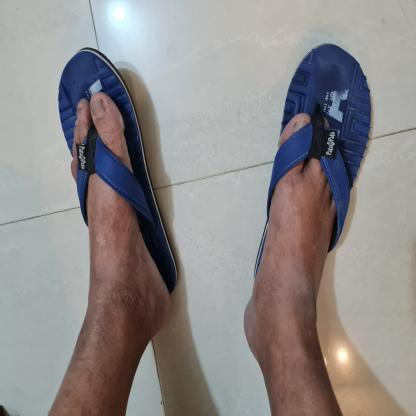leg: (33, 83, 180, 415), (236, 105, 350, 416)
